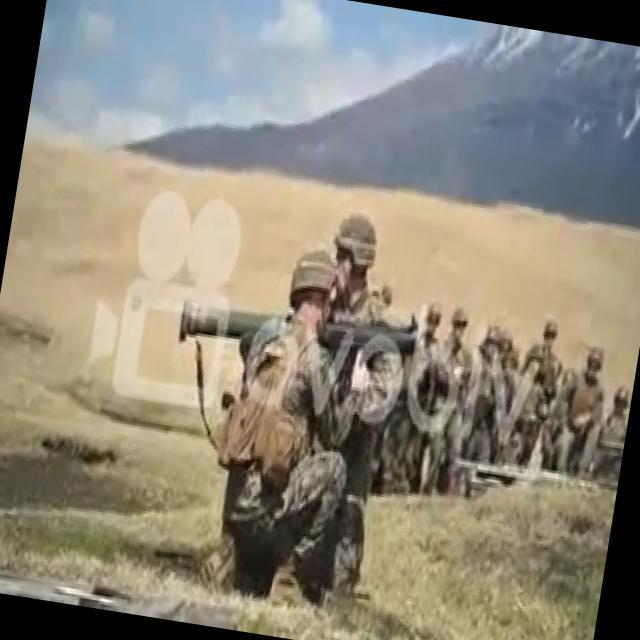rocket: (177, 283, 420, 378)
